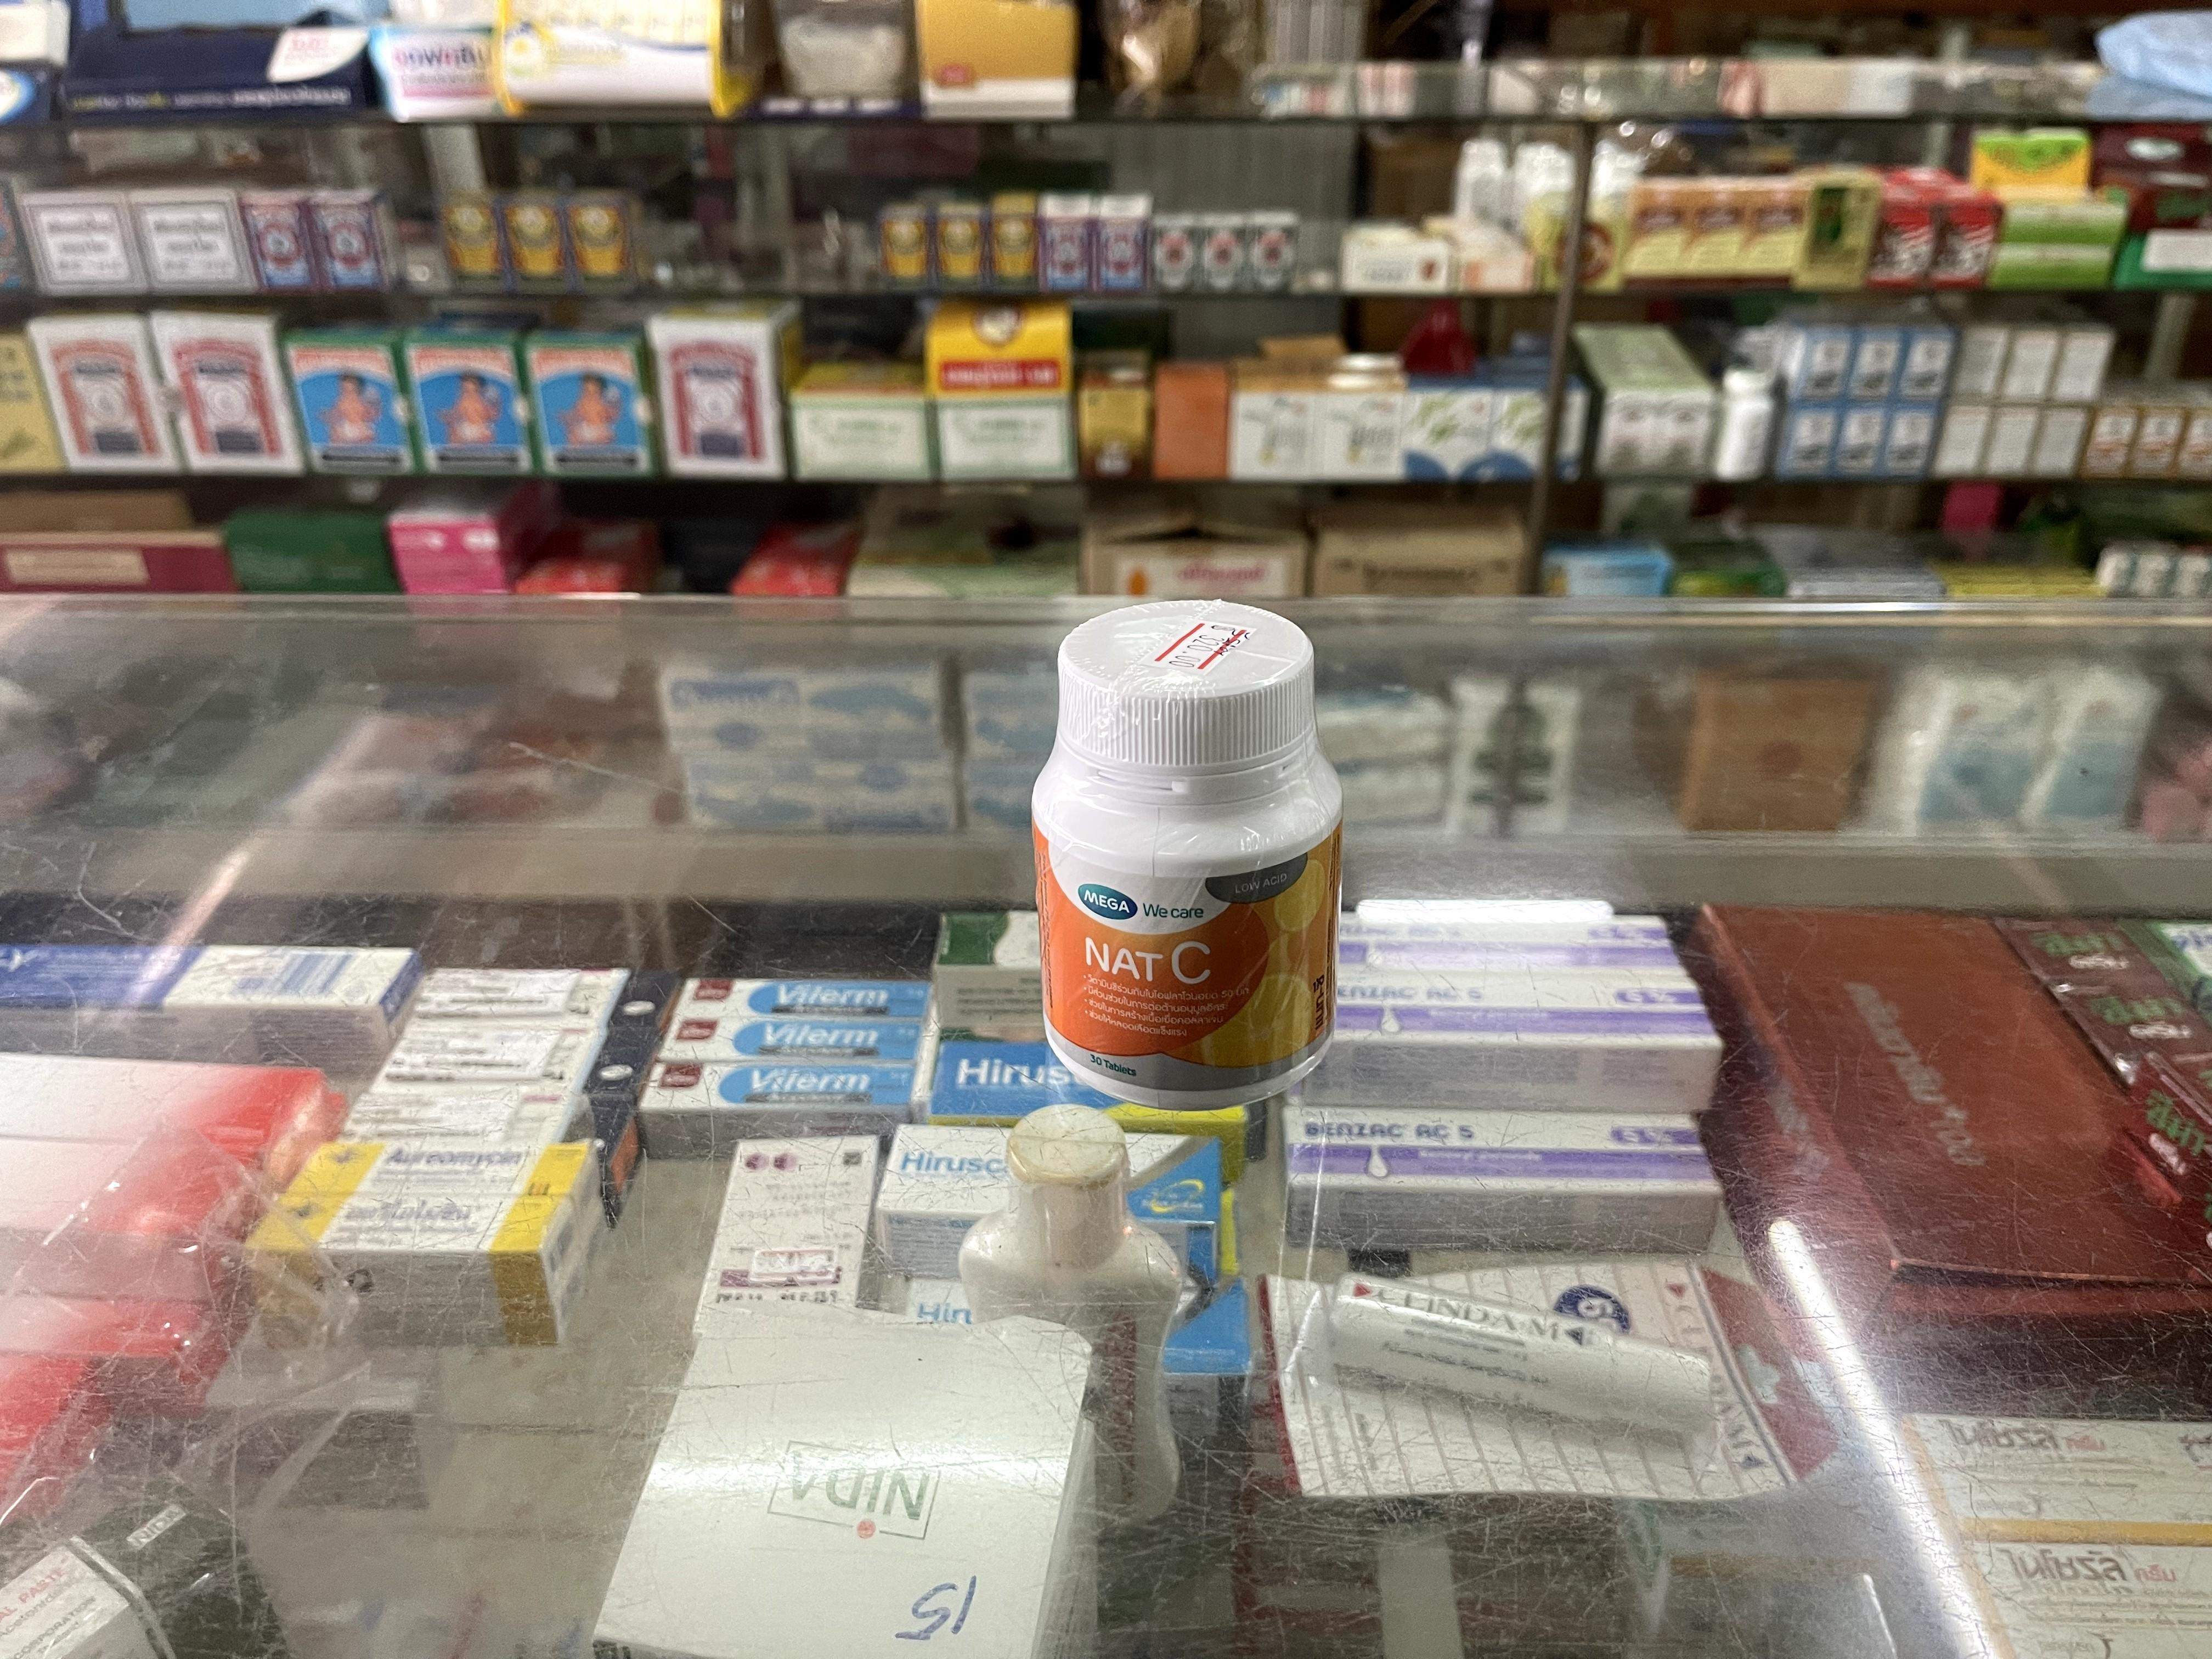NatC: (1029, 596, 1345, 1114)
